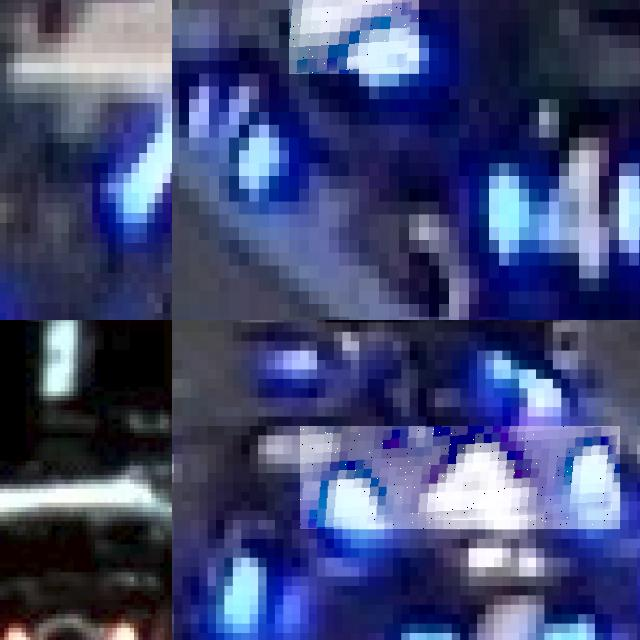B4: (300, 426, 620, 529), (479, 124, 640, 278), (376, 558, 612, 640), (289, 0, 419, 73)
Rs: (4, 618, 142, 640)
